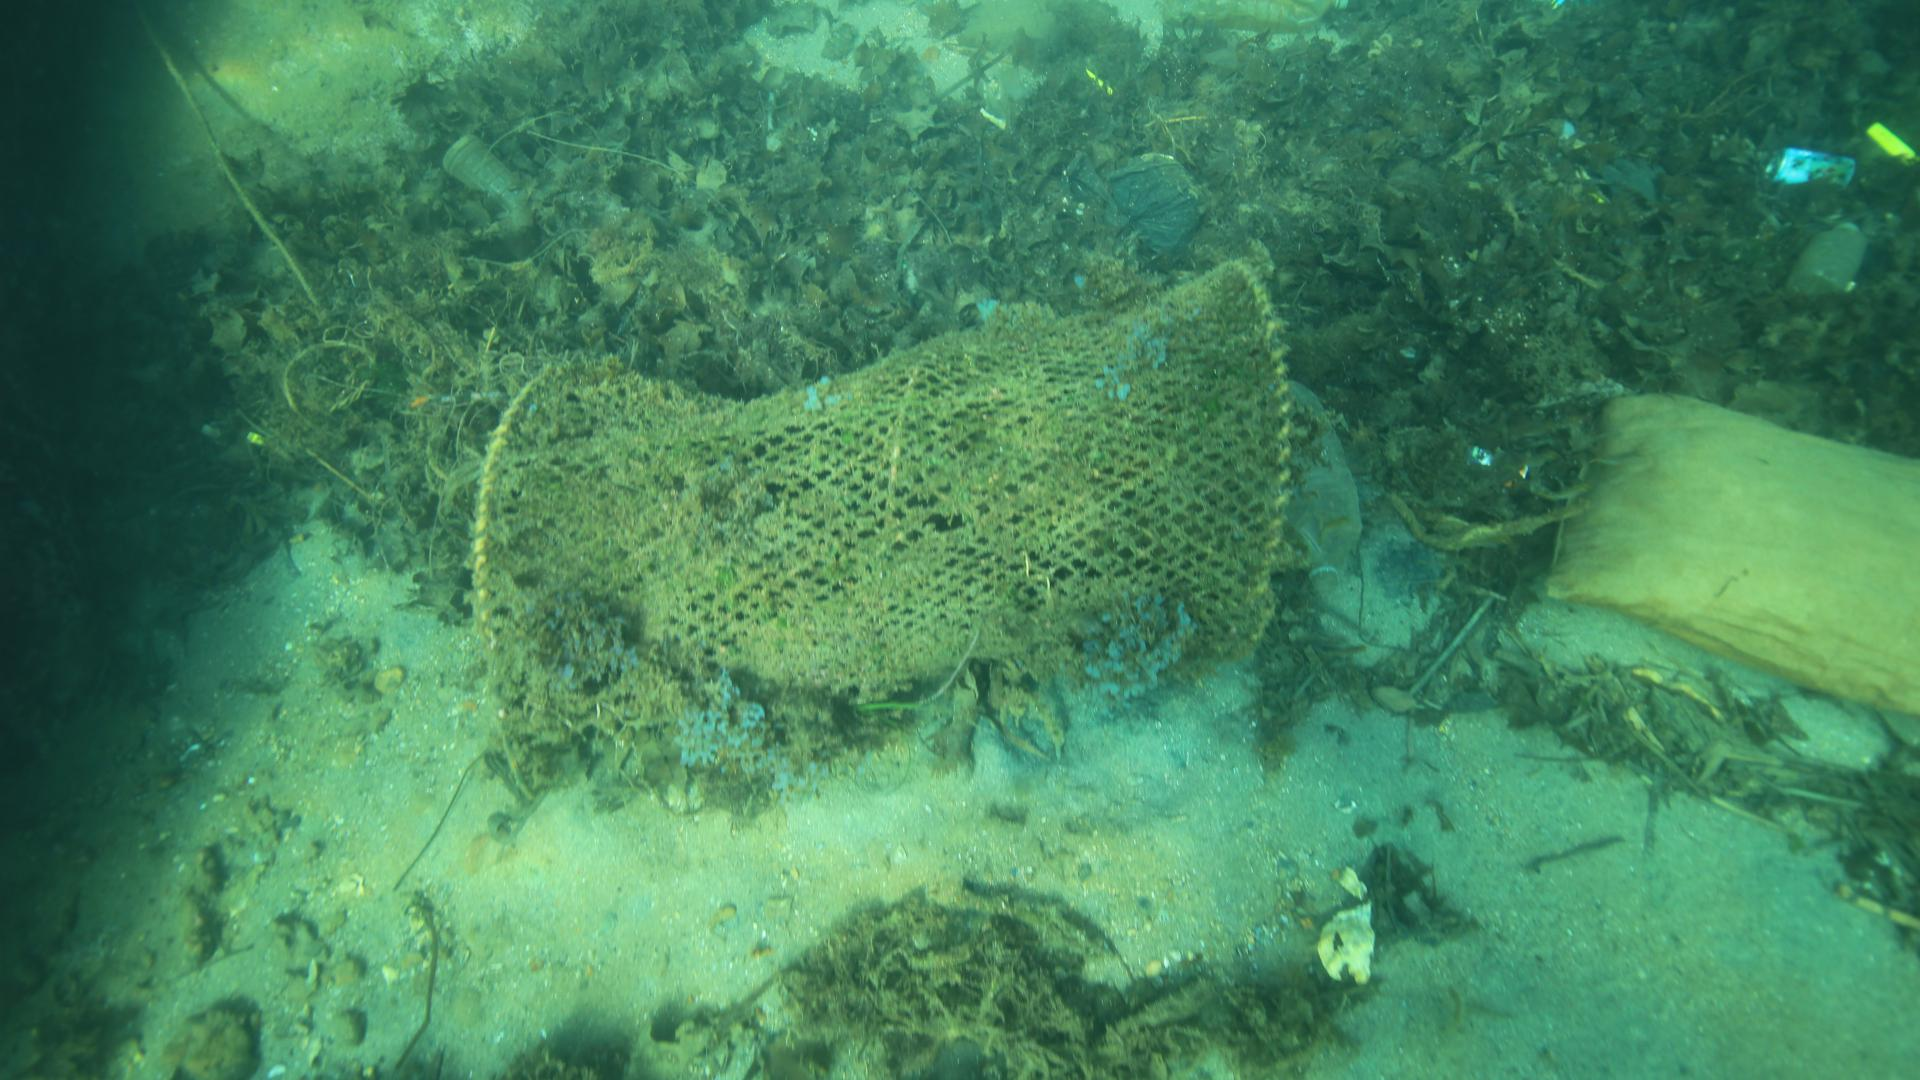spring fish trap: (468, 251, 1298, 719)
